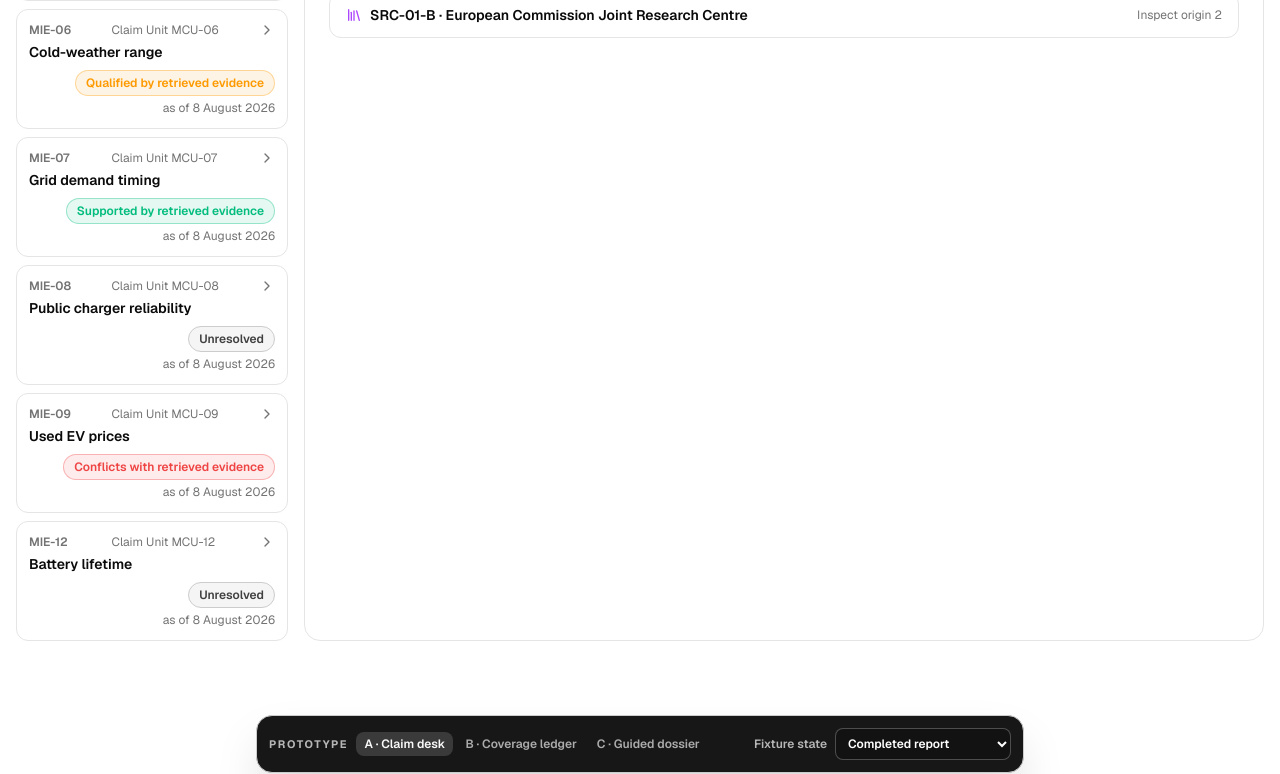
Test: EvidenceWorkspacePrototype › discloses every governed origin for a multi-source Finding
(page scrolled)
Click the button "Used EV prices" at (152, 453), box [16, 393, 288, 513]
(page scrolled)
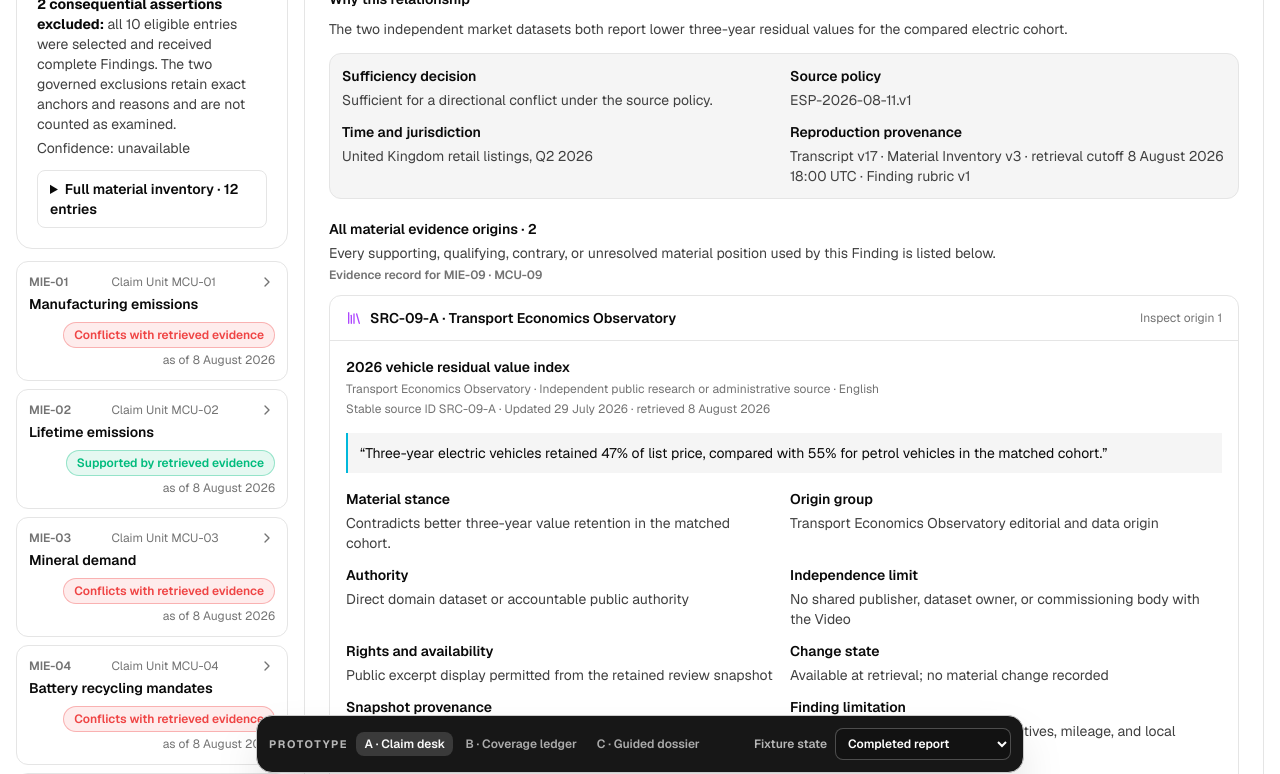
expect the heading "All material evidence origins · 2" is shown: met, box [329, 220, 537, 238]
expect the text "SRC-09-A · Transport Economics Observatory" is shown: met, box [370, 308, 676, 328]
